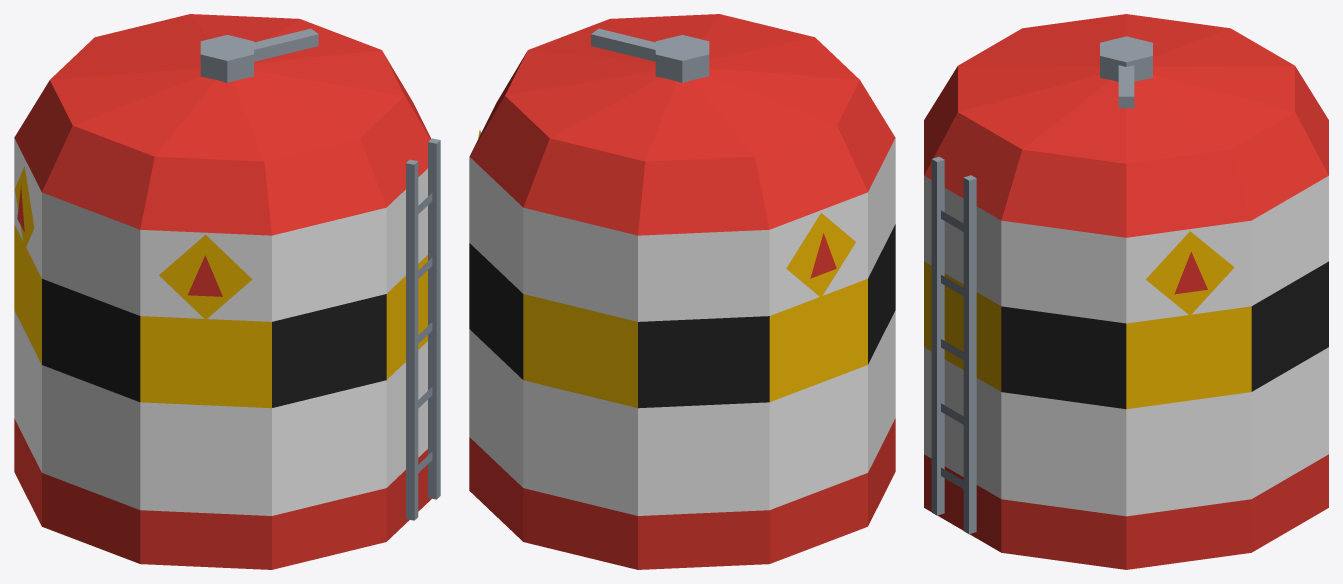
File: fuel_tank.glb
3 views of the same model, side by side, from view 1: azimuth 30°, elevation 25°; view 2: azimuth 150°, elevation 25°; view 3: azimuth 270°, elevation 25° (orthographic).
Parts seen in each view (by area): view 1: fuel_tank; view 2: fuel_tank; view 3: fuel_tank.
Part boxes in pixels (bbox=[...]): fuel_tank: bbox=[14, 14, 440, 569]; fuel_tank: bbox=[469, 14, 895, 569]; fuel_tank: bbox=[924, 14, 1328, 569].
Size of the model in its own units: 0.36 by 0.402 by 0.3424.
